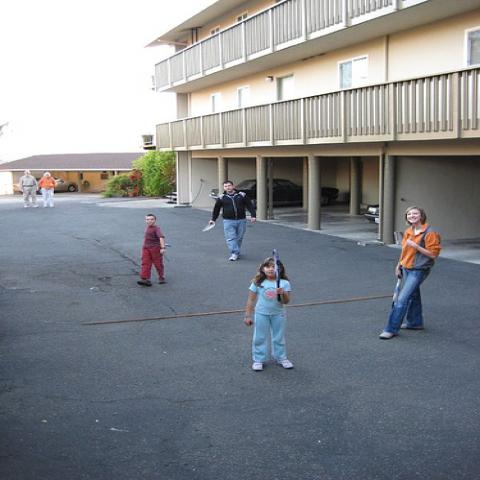car: (208, 178, 341, 208), (55, 176, 79, 192), (364, 204, 380, 224)
